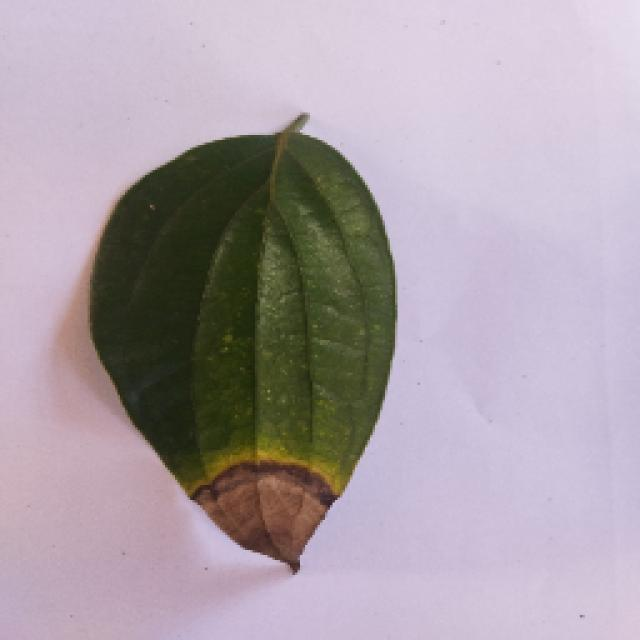footrot: (65, 105, 405, 573)
